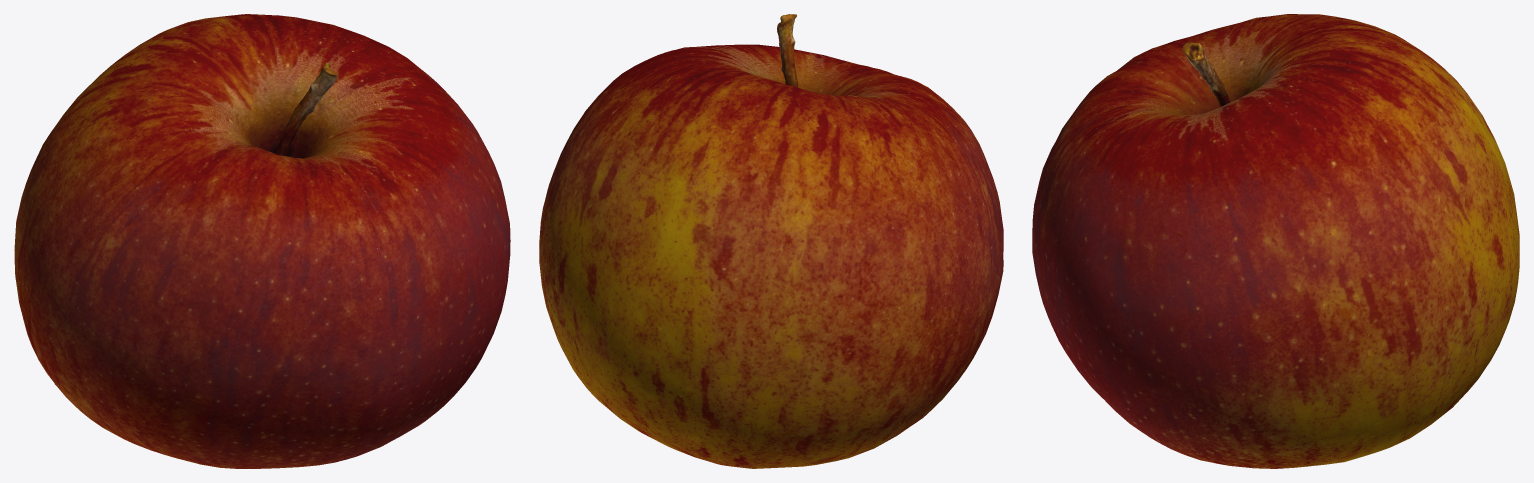
File: apple.glb
3 views of the same model, side by side, from view 1: azimuth 30°, elevation 25°; view 2: azimuth 150°, elevation 25°; view 3: azimuth 270°, elevation 25° (orthographic). The views are drawn at different scales.
Visible parts, largest first — view 1: food_apple_01; view 2: food_apple_01; view 3: food_apple_01.
Boxes of the visible parts, bbox=[...] form: food_apple_01: bbox=[14, 14, 510, 468]; food_apple_01: bbox=[539, 14, 1003, 468]; food_apple_01: bbox=[1032, 14, 1519, 468].
Size of the model in its own units: 0.0976 by 0.0854 by 0.0959.
1 material, 1 textured.
